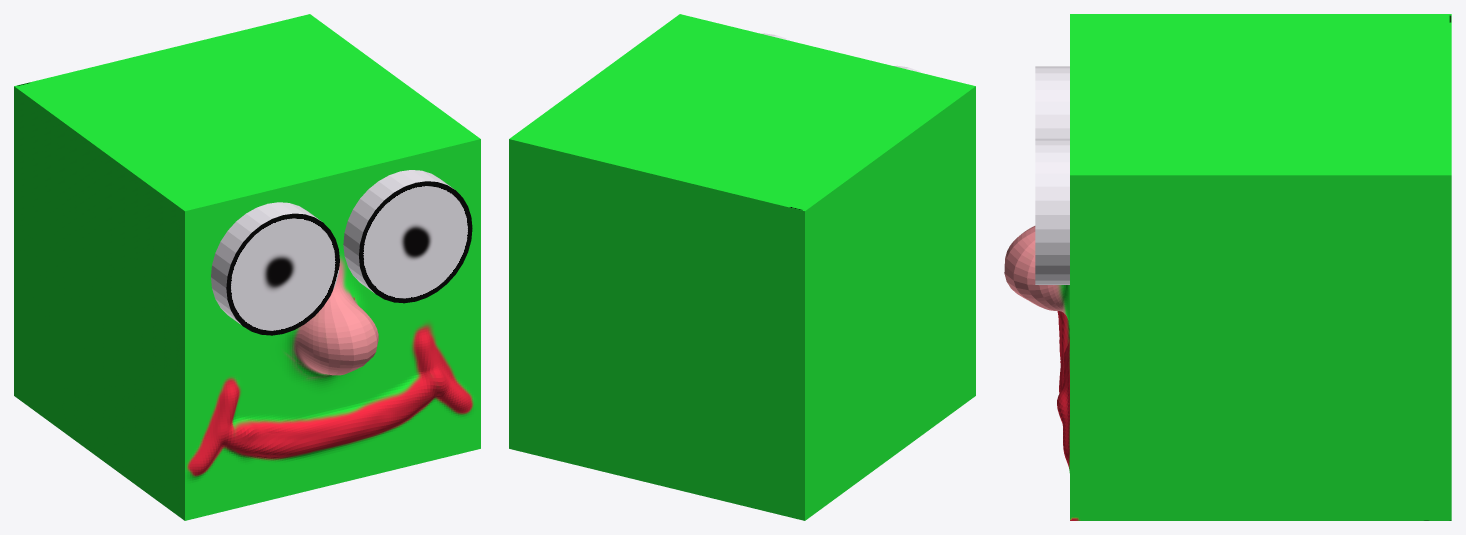
Rendered from player_model_1.glb.
3 views of the same model, side by side, from view 1: azimuth 30°, elevation 25°; view 2: azimuth 150°, elevation 25°; view 3: azimuth 270°, elevation 25° (orthographic). The views are drawn at different scales.
Visible parts, largest first — view 1: Cube, Cylinder, Cylinder.001; view 2: Cube; view 3: Cube, Cylinder.001, Cylinder.
Part boxes in pixels (box(x1,y1,x2,y2)): Cube: box(14, 14, 480, 520); Cylinder: box(211, 202, 339, 335); Cylinder.001: box(343, 170, 472, 303); Cube: box(509, 14, 975, 520); Cube: box(1004, 14, 1451, 520); Cylinder.001: box(1035, 138, 1069, 284); Cylinder: box(1035, 66, 1069, 138).
Size of the model in its own units: 2 by 2 by 2.34.
Materials: 3 (3 with a texture image).
